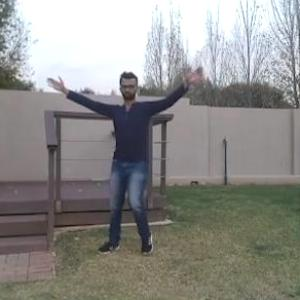takeoff: (48, 68, 204, 255)
